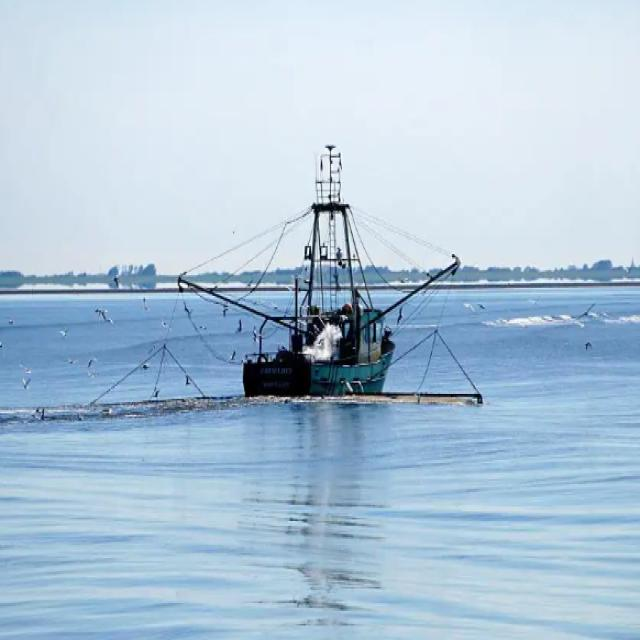fishing boat: (242, 153, 452, 395)
